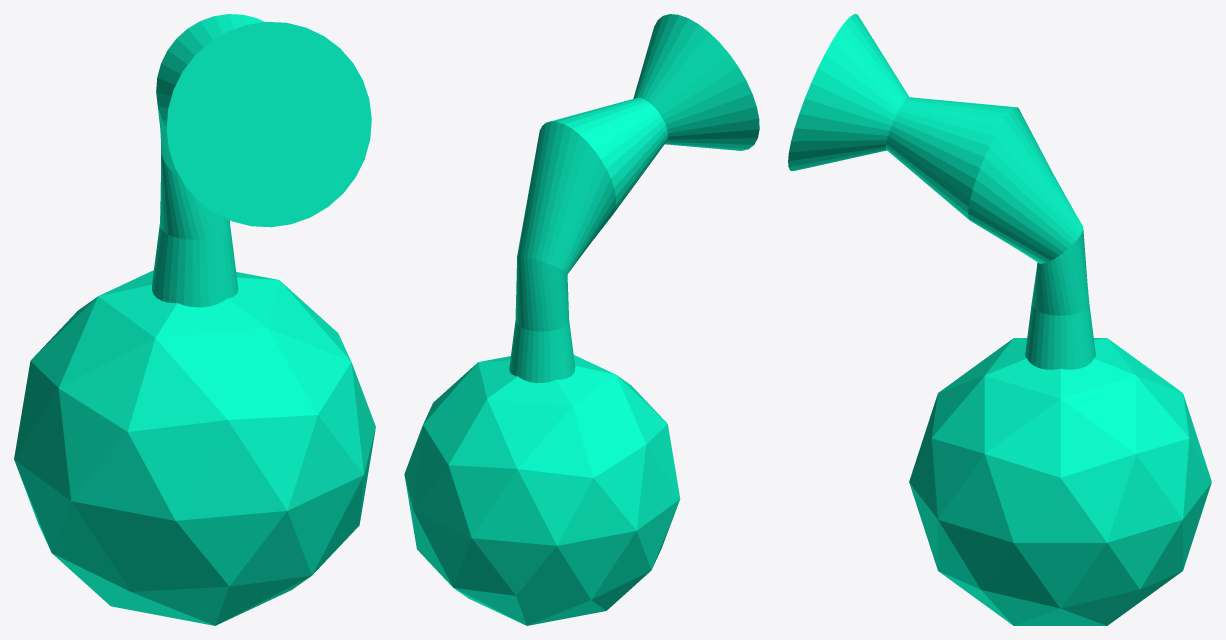
File: shild tree - 3 obj.fbx
The picture shows the model from 3 angles, left to right: view 1: azimuth 30°, elevation 25°; view 2: azimuth 150°, elevation 25°; view 3: azimuth 270°, elevation 25°; orthographic projection. The views are drawn at different scales.
Parts seen in each view (by area): view 1: orb, Tree; view 2: orb, Tree; view 3: orb, Tree.
Boxes of the visible parts, bbox=[...] form: orb: bbox=[14, 270, 375, 625]; Tree: bbox=[152, 14, 371, 307]; orb: bbox=[404, 355, 680, 625]; Tree: bbox=[509, 14, 759, 382]; orb: bbox=[909, 338, 1211, 625]; Tree: bbox=[788, 14, 1095, 369].
Bounding box in the file's own units: 1075 × 2338 × 1568.
